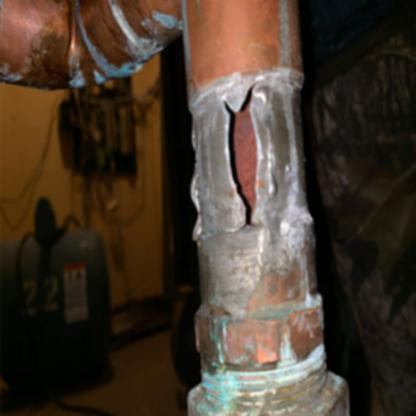burst: (224, 91, 273, 221)
